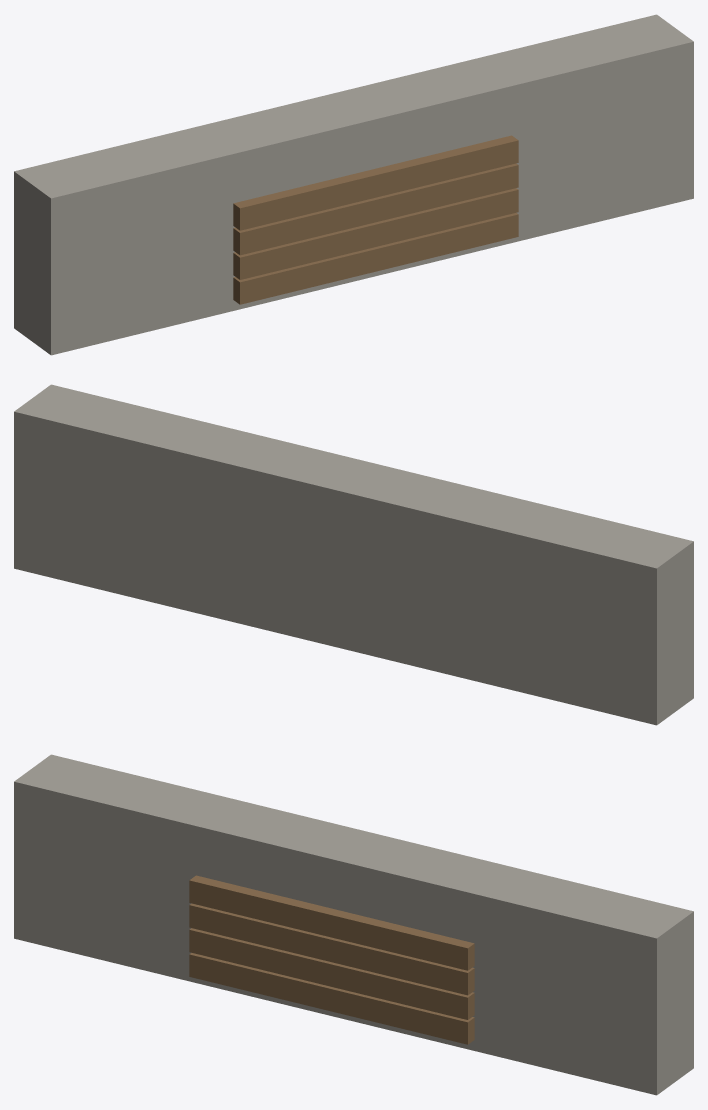
The model's file is tf_canal_check_lateral.glb.
The picture shows the model from 3 angles, top to bottom: view 1: azimuth 30°, elevation 25°; view 2: azimuth 150°, elevation 25°; view 3: azimuth 330°, elevation 25°; orthographic projection.
Parts seen in each view (by area): view 1: tf_canal_check_lateral; view 2: tf_canal_check_lateral; view 3: tf_canal_check_lateral.
Part boxes in pixels (x1,y1,x2,y2): tf_canal_check_lateral: (14,14,693,355); tf_canal_check_lateral: (14,384,693,725); tf_canal_check_lateral: (14,754,693,1095).
Size of what is drawn, in the model's own units: 6 by 1.4 by 0.71.
